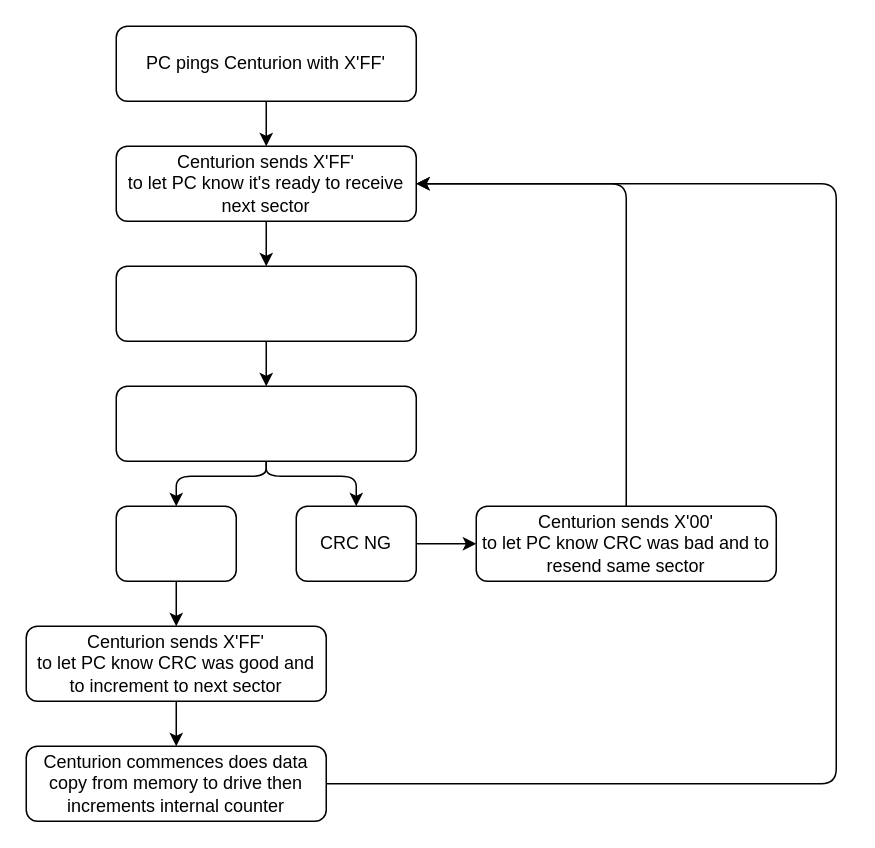
The diagram is 875 pixels wide and 848 high, and some of its shapes have lost their labels. The box of each missing label's shape, as (x1, y1, x2, y2) in pixels:
400 bytes data + 2 bytes CRC transfers from PC to Centurion: (115, 265, 416, 341)
Centurion calculates CRC: (115, 385, 416, 461)
CRC OK: (115, 505, 236, 581)
